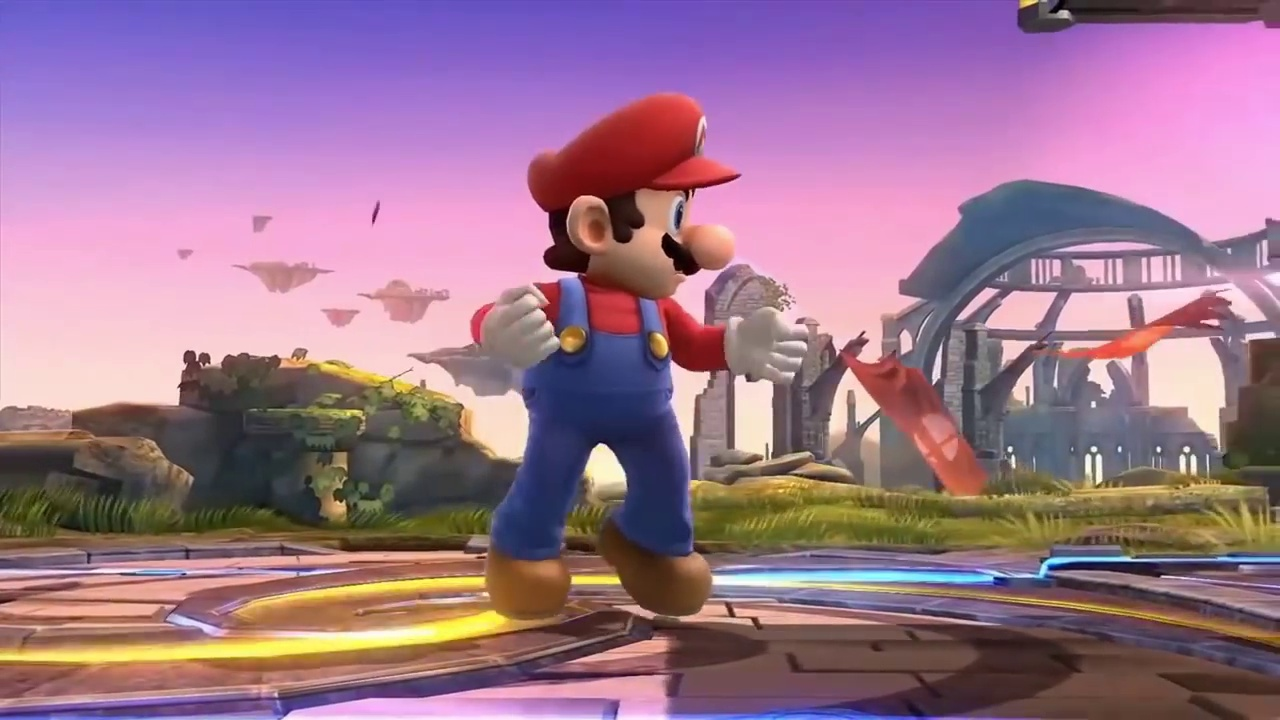Mario: (469, 93, 809, 620)
